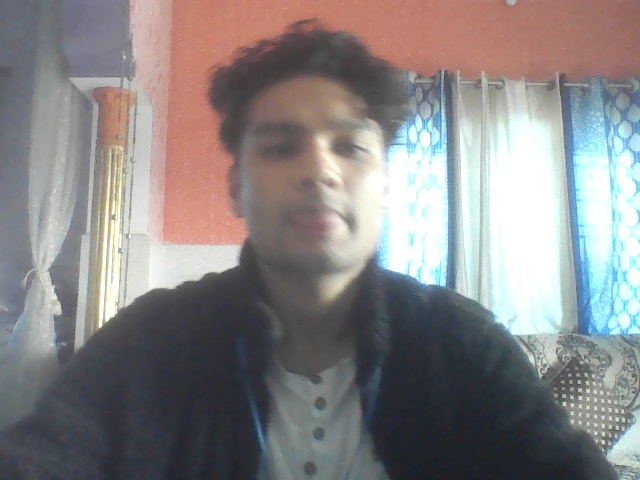real: (215, 20, 403, 286)
